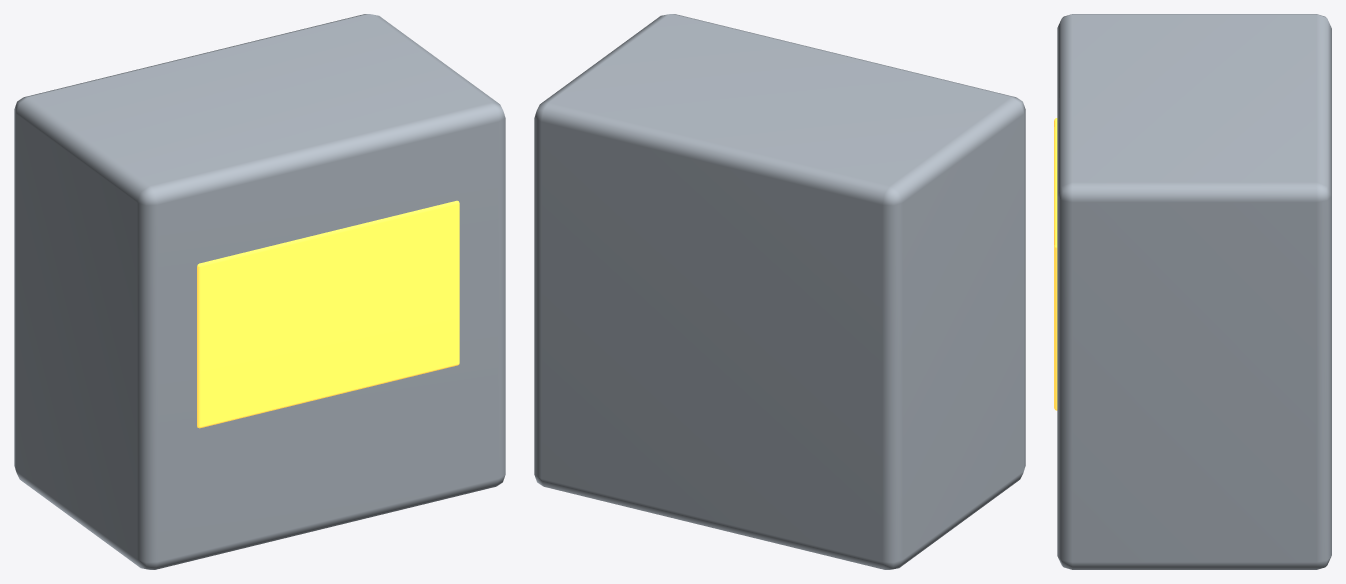
The model's file is oven.glb.
3 views of the same model, side by side, from view 1: azimuth 30°, elevation 25°; view 2: azimuth 150°, elevation 25°; view 3: azimuth 270°, elevation 25° (orthographic).
Parts seen in each view (by area): view 1: Body, Window; view 2: Body; view 3: Body, Window.
Boxes of the visible parts, bbox=[...] form: Body: bbox=[14, 14, 505, 569]; Window: bbox=[197, 200, 459, 428]; Body: bbox=[534, 14, 1025, 569]; Body: bbox=[1057, 14, 1331, 569]; Window: bbox=[1054, 118, 1057, 410].
Bounding box in the file's own units: 1.4 × 1.4 × 0.91.
